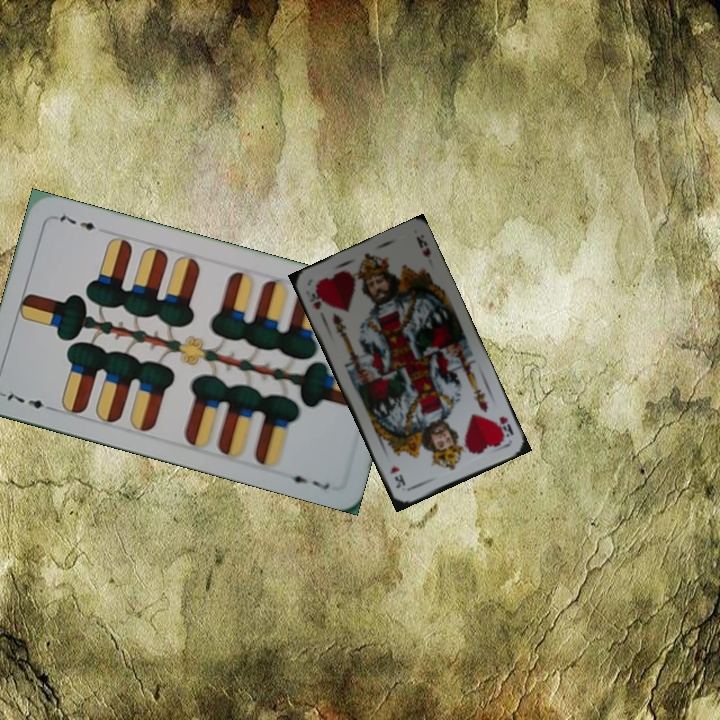E7: (1, 389, 59, 412)
HK: (492, 412, 516, 444), (305, 281, 325, 312)
